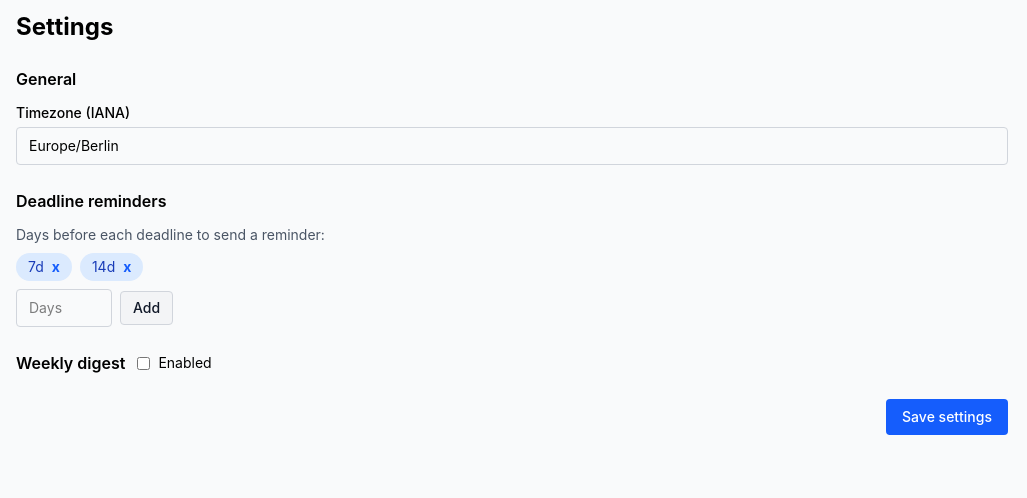
Test case: SettingsPage › submits valid form
Check: the field with placeholder "Europe/Berlin" is shown, box [16, 127, 1008, 165]
Click the button "Save settings" at {"x": 947, "y": 417}, box [886, 399, 1008, 435]
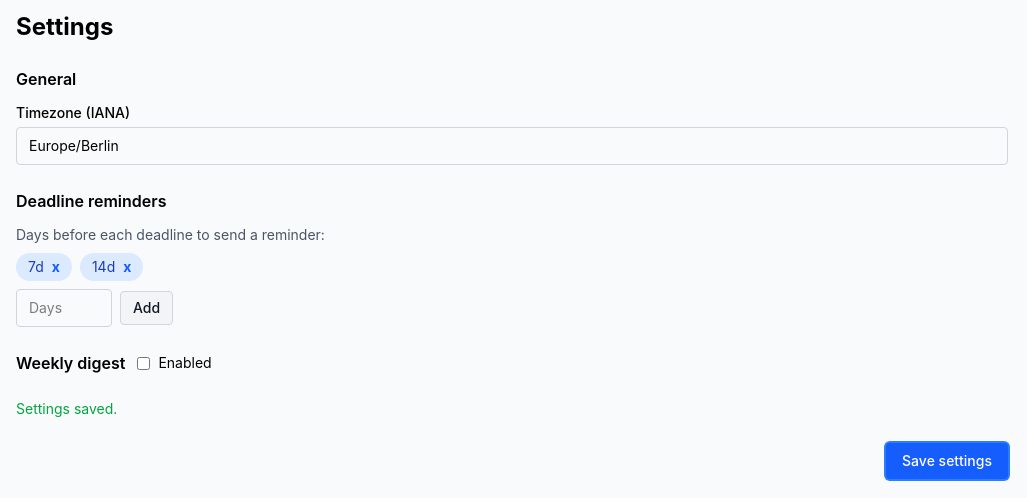
Check: the text "Settings saved." is shown, box [16, 400, 117, 417]
